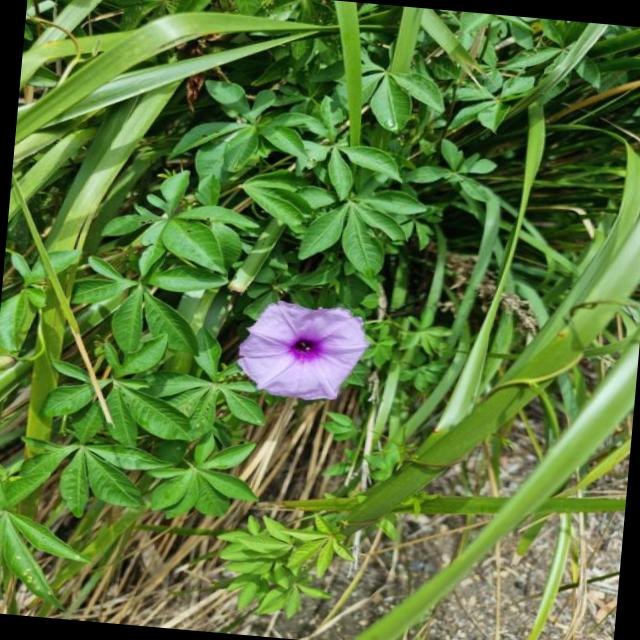ipomoea: (228, 294, 374, 408)
